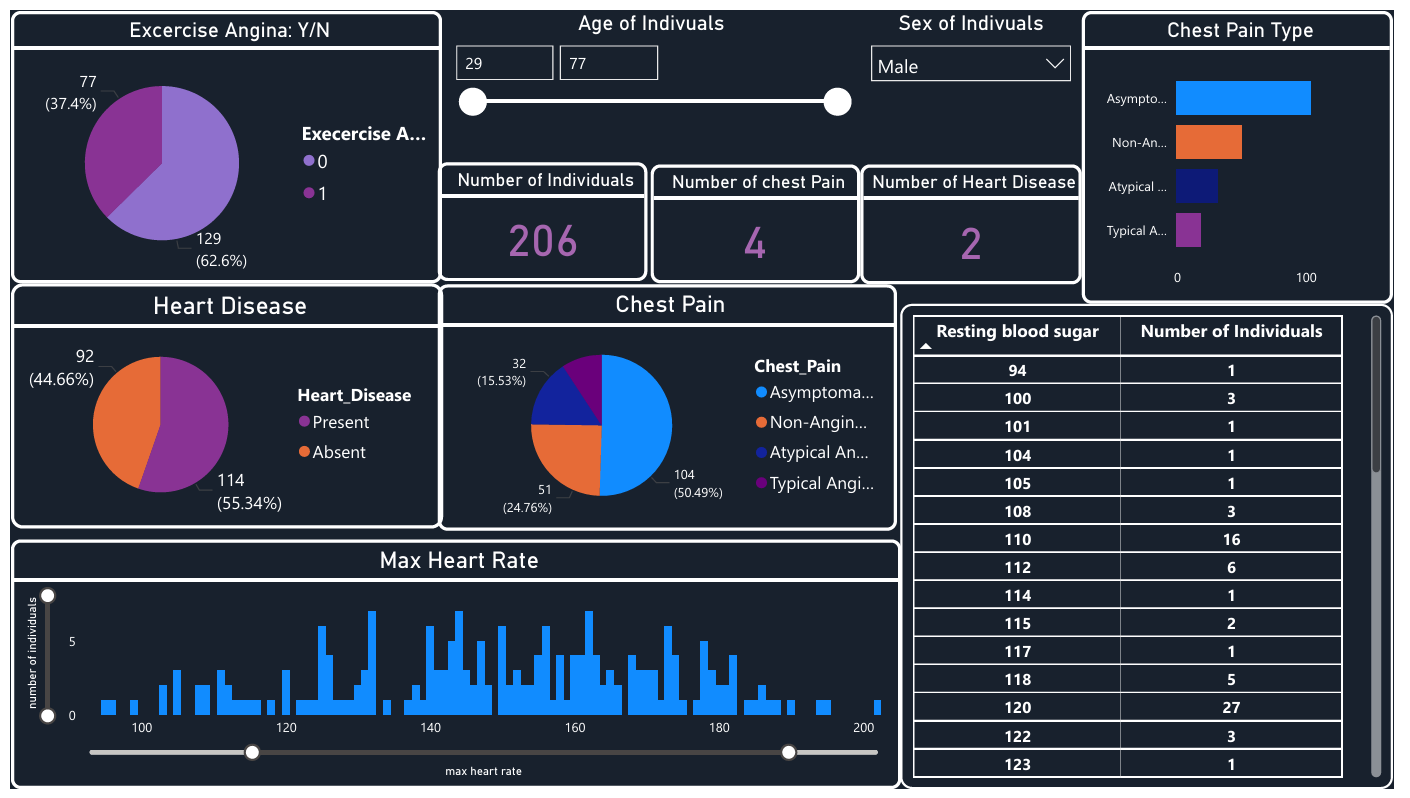

This screenshot's page, from the dashboard's own definition file:
{"tool":"powerbi","page":{"name":"Page 1","canvas":[1280,720],"ordinal":0},"visuals":[{"type":"slicer","title":"Sex of Indivuals","fields":{"Values":["Heart Disease Diagnostic.sex1"]},"box":[785.8,0,204.9,142],"z":0},{"type":"slicer","title":"Age of Indivuals","fields":{"Values":["Heart Disease Diagnostic.age"]},"box":[398.5,0,387.2,125.8],"z":1000},{"type":"pieChart","title":"Heart Disease","fields":{"Category":["Heart Disease Diagnostic.Heart_Disease"],"Y":["CountNonNull(Heart Disease Diagnostic.sex1)"]},"box":[0,251.7,400.1,227.5],"z":1001},{"type":"pieChart","title":"Chest Pain ","fields":{"Category":["Heart Disease Diagnostic.Chest_Pain"],"Y":["CountNonNull(Heart Disease Diagnostic.sex1)"]},"box":[395.3,253.3,424.3,227.5],"z":1002},{"type":"columnChart","title":"Max Heart Rate","fields":{"Category":["Heart Disease Diagnostic.max_heart_rate_achieved"],"Y":["CountNonNull(Heart Disease Diagnostic.sex1)"]},"box":[0,488.8,823.6,231.1],"z":1003},{"type":"tableEx","fields":{"Values":["Heart Disease Diagnostic.resting_blood_sugar","Heart Disease Diagnostic.sex1"]},"box":[822.9,271.1,456.6,448.5],"z":1004},{"type":"pieChart","title":"Excercise Angina: Y/N","fields":{"Category":["Heart Disease Diagnostic.exercise_induced_angina","Heart Disease Diagnostic.Heart_Disease"],"Y":["CountNonNull(Heart Disease Diagnostic.Heart_Disease)"]},"box":[0,0,398.5,251.7],"z":1005},{"type":"card","title":"Number of Individuals","fields":{"Values":["Sum(Heart Disease Diagnostic.sex)"]},"box":[395.3,140.4,193.6,109.7],"z":1006},{"type":"card","title":"Number of chest Pain","fields":{"Values":["Count(Heart Disease Diagnostic.Chest_Pain)"]},"box":[592.1,142,193.6,109.7],"z":1007},{"type":"card","title":"Number of Heart Disease","fields":{"Values":["Count(Heart Disease Diagnostic.Heart_Disease)"]},"box":[785.8,142,204.9,111.3],"z":1008},{"type":"clusteredBarChart","title":"Chest Pain Type","fields":{"Category":["Heart Disease Diagnostic.Chest_Pain"],"Y":["CountNonNull(Heart Disease Diagnostic.sex1)"]},"box":[990.7,0,288.8,271.1],"z":1009}]}

Visuals, with their boxes in screenshot pixels (x1, y1, x2, y2), scaled from the page's 1280x720 canvas onto the 1410x798 screenshot:
"Sex of Indivuals" slicer: bbox=(866, 0, 1091, 157)
"Age of Indivuals" slicer: bbox=(439, 0, 865, 139)
"Heart Disease" pieChart: bbox=(0, 279, 441, 531)
"Chest Pain " pieChart: bbox=(435, 281, 903, 533)
"Max Heart Rate" columnChart: bbox=(0, 542, 907, 797)
tableEx - Heart Disease Diagnostic.resting_blood_sugar x Heart Disease Diagnostic.sex1: bbox=(906, 300, 1409, 797)
"Excercise Angina: Y/N" pieChart: bbox=(0, 0, 439, 279)
"Number of Individuals" card: bbox=(435, 156, 649, 277)
"Number of chest Pain" card: bbox=(652, 157, 865, 279)
"Number of Heart Disease" card: bbox=(866, 157, 1091, 281)
"Chest Pain Type" clusteredBarChart: bbox=(1091, 0, 1409, 300)
